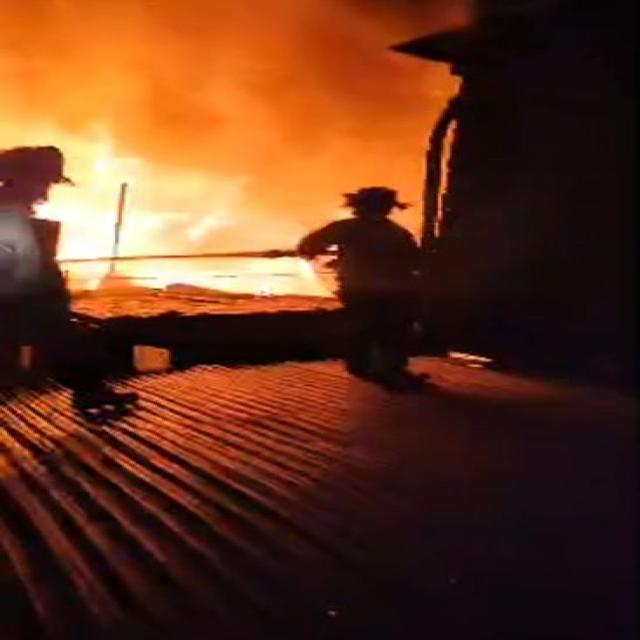Fire: (14, 138, 282, 260)
Smoke: (0, 0, 420, 222)
